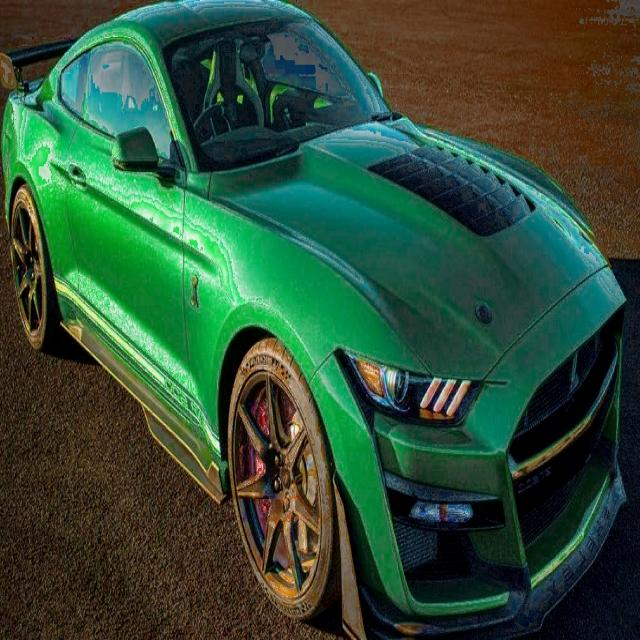green: (0, 0, 629, 640)
